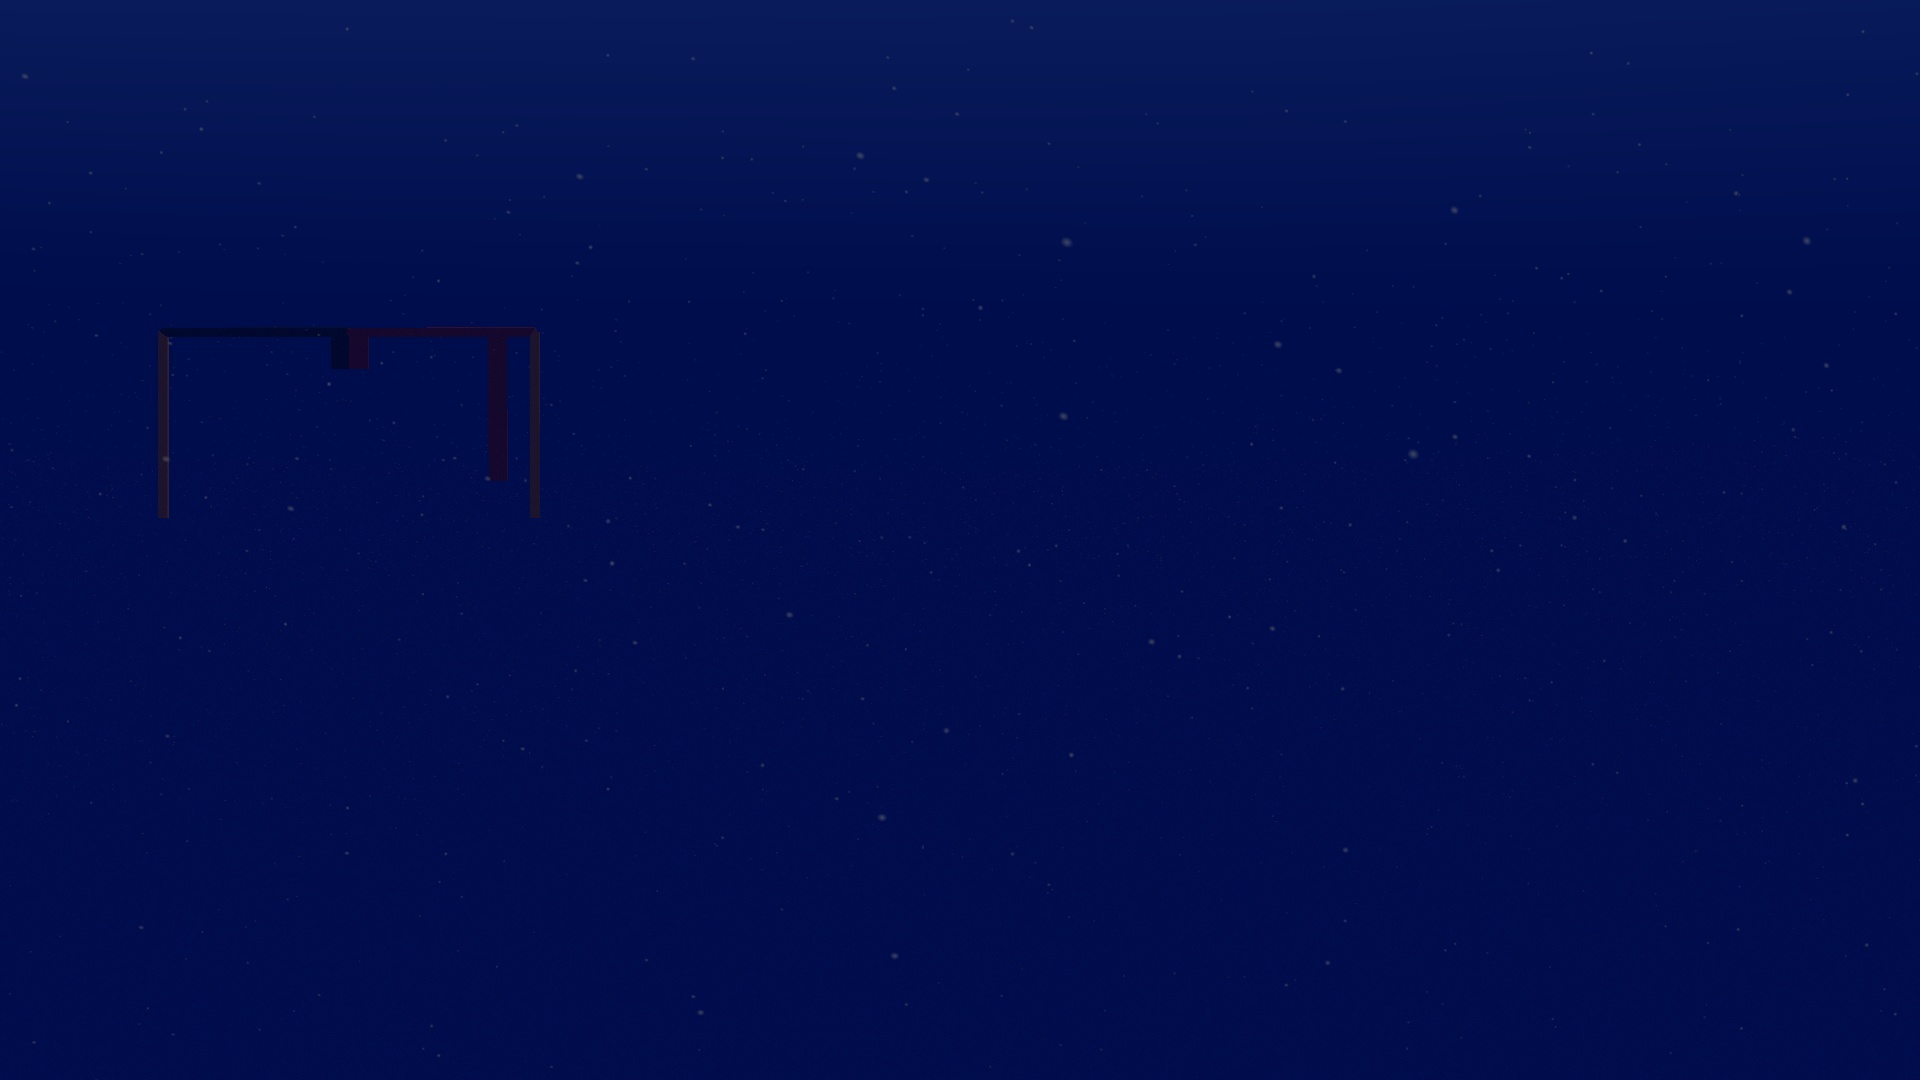Gate: (150, 316, 549, 535)
